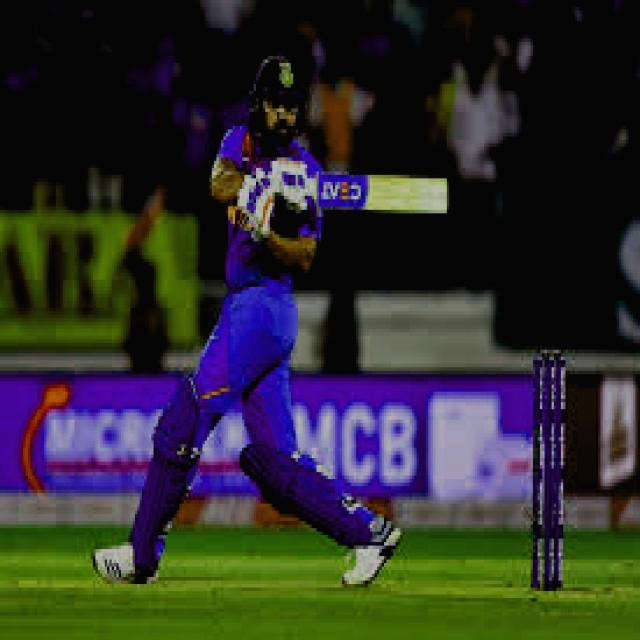toe: (427, 178, 452, 215)
